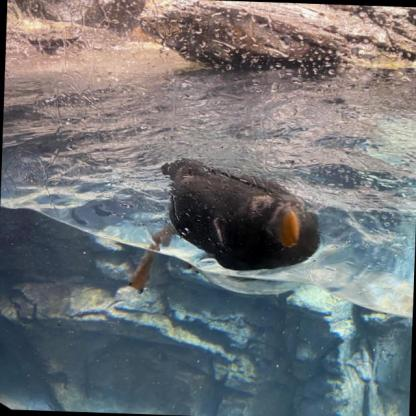puffin: (129, 157, 321, 300)
